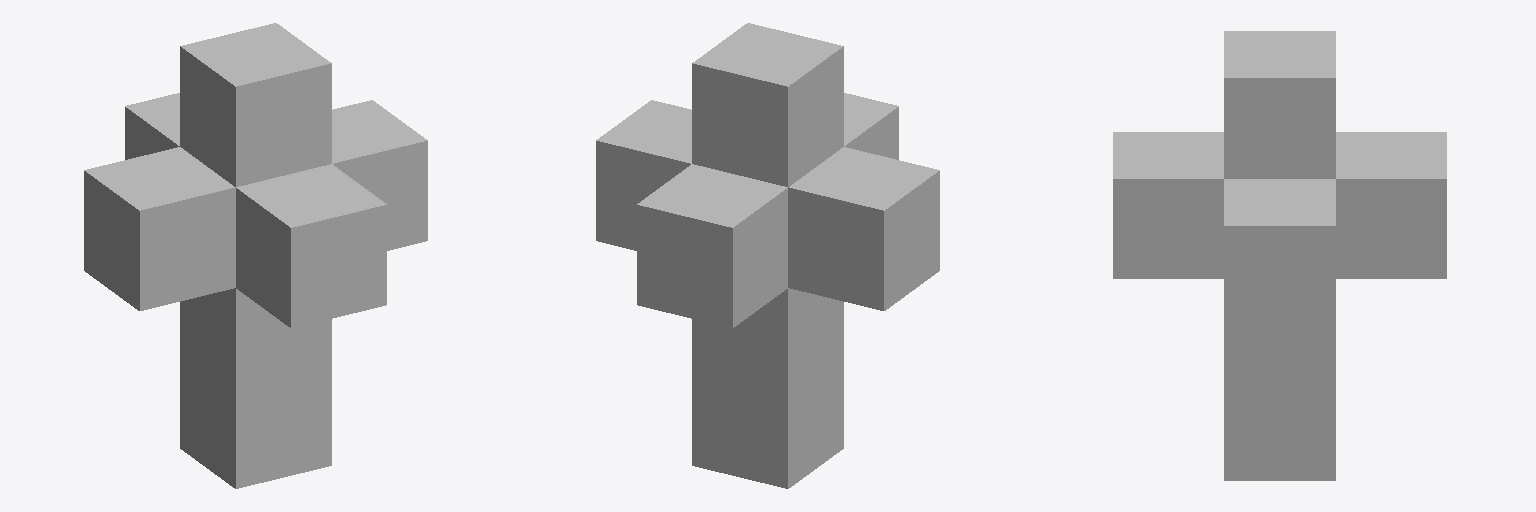
The model's file is Flower.obj.
The picture shows the model from 3 angles: view 1: azimuth 30°, elevation 25°; view 2: azimuth 150°, elevation 25°; view 3: azimuth 270°, elevation 25°; orthographic projection.
Parts seen in each view (by area): view 1: object 1; view 2: object 1; view 3: object 1.
Part boxes in pixels (left/top/right/bottom): object 1: left=84, top=23, right=427, bottom=488; object 1: left=596, top=23, right=939, bottom=488; object 1: left=1113, top=31, right=1446, bottom=480.
Bounding box in the file's own units: 0.3 × 0.4 × 0.3.